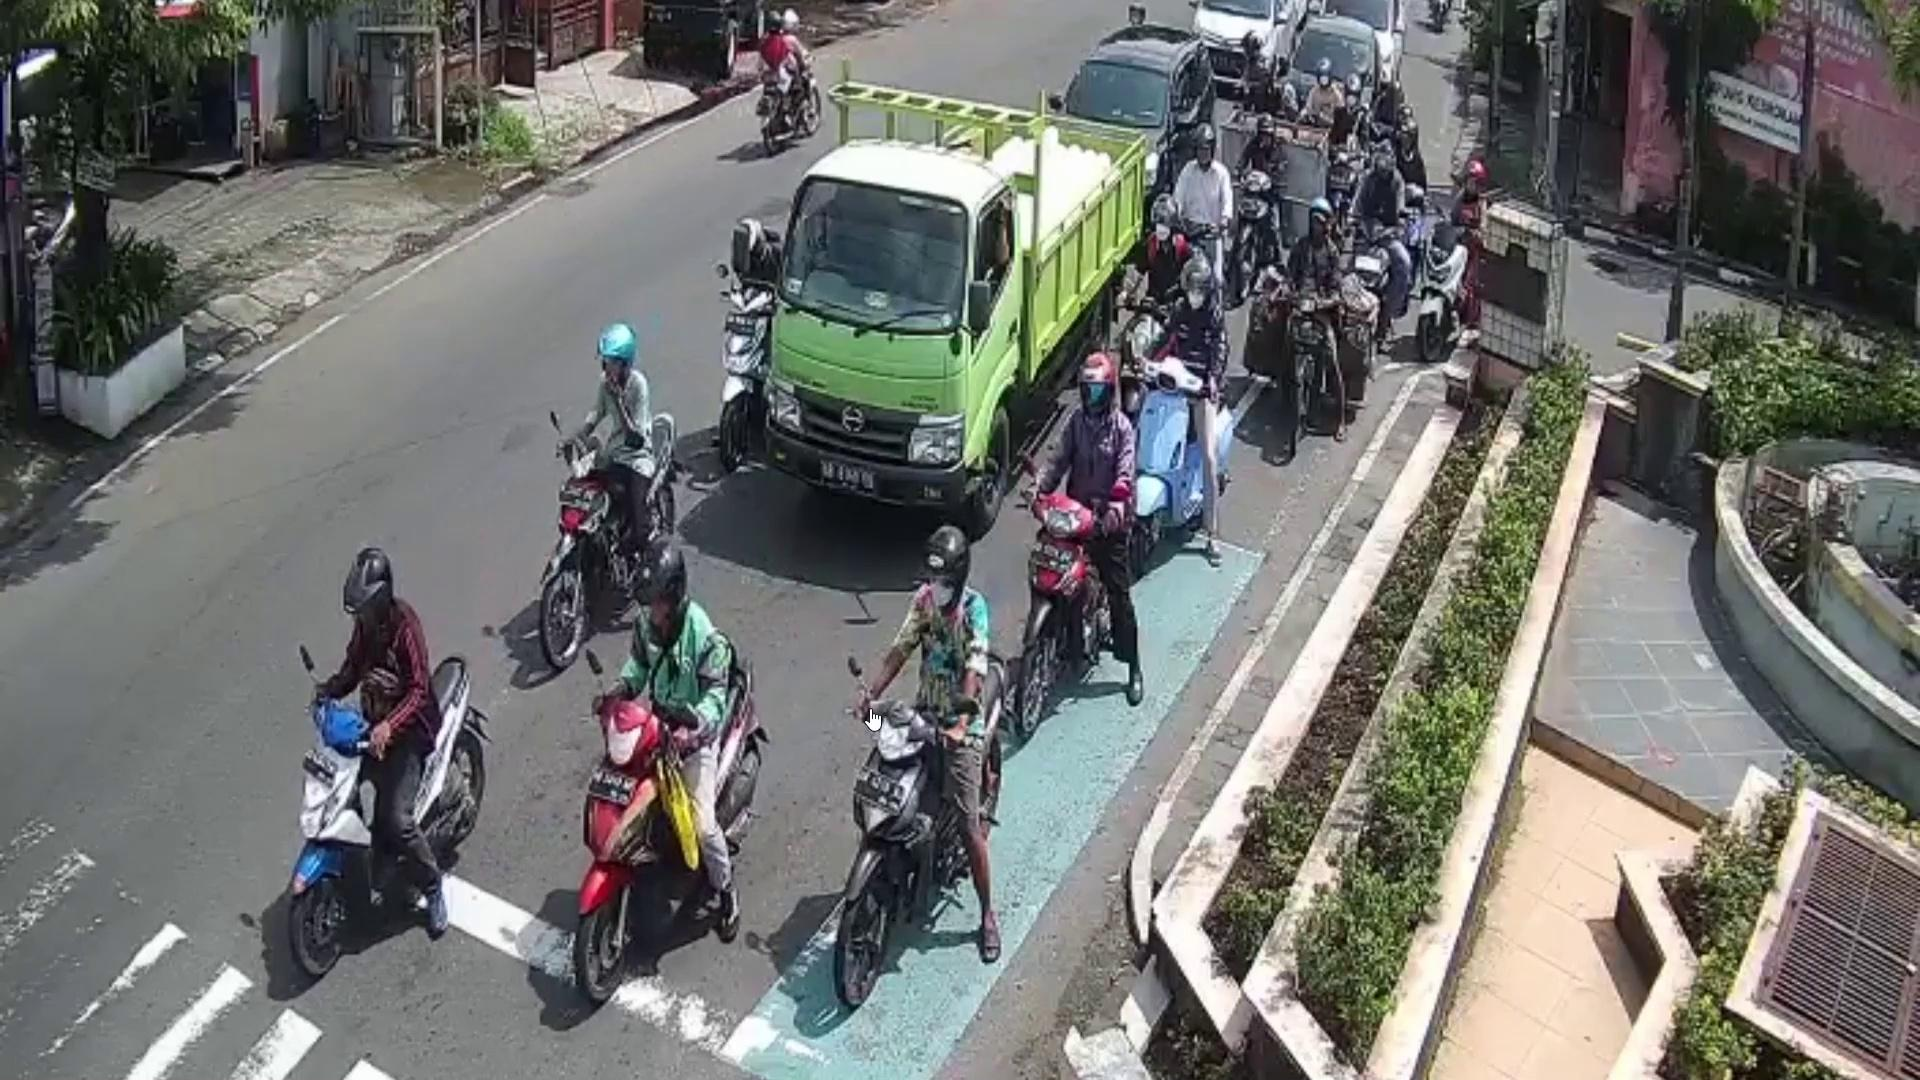car: (1059, 26, 1218, 210), (1280, 18, 1382, 165), (1196, 0, 1311, 94)
motorbike: (572, 657, 765, 1005), (289, 651, 491, 981), (837, 646, 1015, 1005), (543, 409, 680, 675), (1010, 447, 1129, 744), (1116, 353, 1238, 572), (1266, 285, 1350, 456), (717, 277, 775, 456), (1230, 162, 1288, 298), (1423, 220, 1477, 360), (756, 51, 831, 152), (1350, 204, 1406, 328)
truck: (764, 59, 1149, 537)
